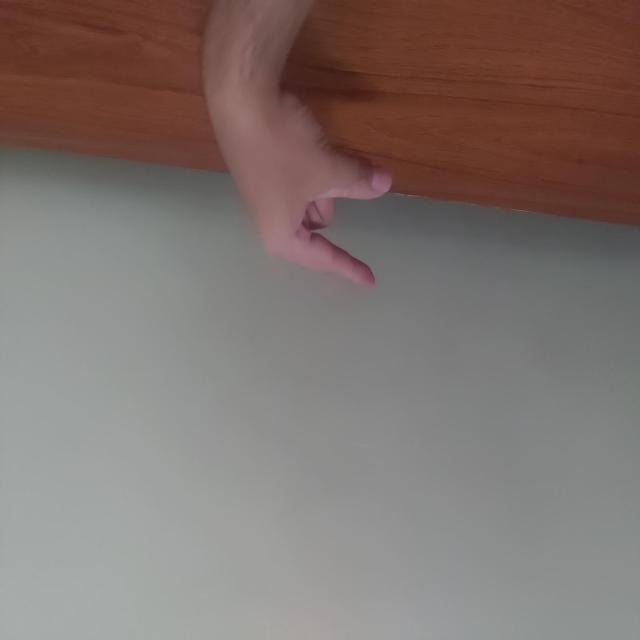Q: (348, 203, 556, 391)
